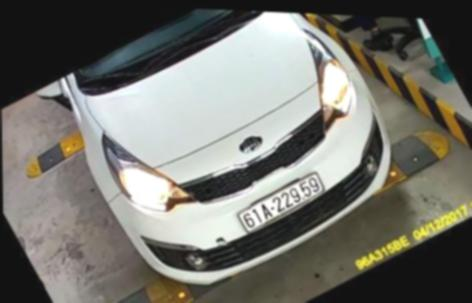License_Plate: (237, 170, 330, 238)
